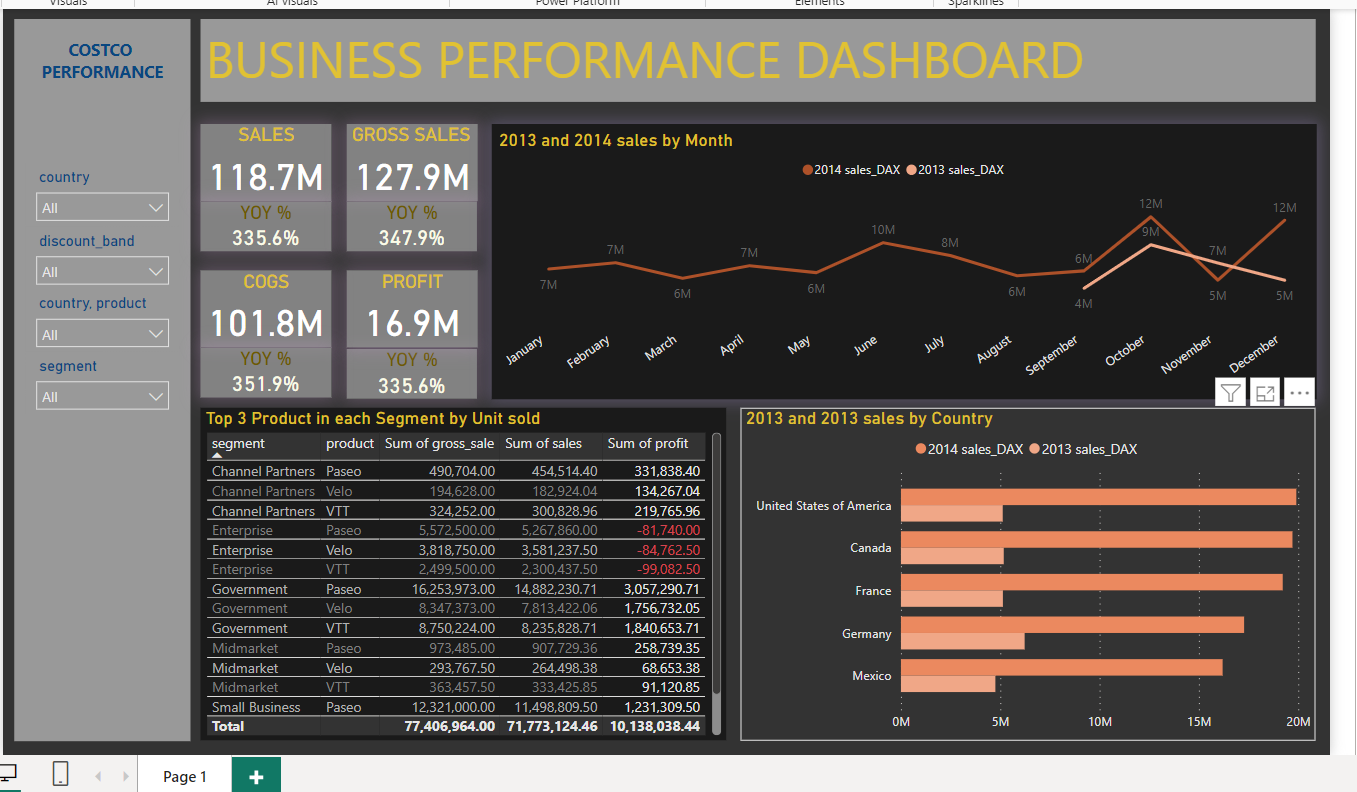

Layout of this report page (visuals, bound fields, positions):
{"tool":"powerbi","page":{"name":"Page 1","canvas":[1280,720],"ordinal":0},"visuals":[{"type":"shape","box":[10.9,9.6,170.1,697.1],"z":0},{"type":"card","title":"SALES","fields":{"Values":["Sum(testing financial_sample.sales)"]},"box":[190.6,111,126.6,74.8],"z":0,"group":"g1"},{"type":"card","title":"GROSS SALES","fields":{"Values":["Sum(testing financial_sample.gross_sale)"]},"box":[331.7,111,126.6,74.8],"z":0,"group":"g2"},{"type":"card","title":"COGS","fields":{"Values":["Sum(testing financial_sample.COGS)"]},"box":[190.6,252.1,126.6,74.8],"z":0,"group":"g4"},{"type":"card","title":"YOY %","fields":{"Values":["testing financial_sample.profit YoY%"]},"box":[331.6,328.2,125.8,47.6],"z":0,"group":"g3"},{"type":"textbox","box":[190.9,10.2,1075.8,80.1],"z":1000},{"type":"card","title":"YOY %","fields":{"Values":["testing financial_sample.gross_sale YoY%"]},"box":[331.6,185.4,125.8,47.6],"z":1000,"group":"g2"},{"type":"card","title":"YOY %","fields":{"Values":["testing financial_sample.profit YoY%"]},"box":[191,185.9,126.2,47.7],"z":1000,"group":"g1"},{"type":"card","title":"PROFIT","fields":{"Values":["Sum(testing financial_sample.profit)"]},"box":[331.7,252.1,126.6,74.8],"z":1000,"group":"g3"},{"type":"card","title":"YOY %","fields":{"Values":["testing financial_sample.COGS YoY%"]},"box":[191,327.4,126.2,47.7],"z":1000,"group":"g4"},{"type":"group","id":"g1","title":"sales","box":[190.6,111,126.6,122.6],"z":2000},{"type":"group","id":"g2","title":"gross sales","box":[331.6,111,126.7,122],"z":3000},{"type":"group","id":"g3","title":"profit","box":[331.6,252.1,126.7,123.7],"z":4000},{"type":"group","id":"g4","title":"cogs","box":[190.6,252.1,126.6,123],"z":5000},{"type":"lineChart","title":"2013 and 2014 sales by Month","fields":{"Y":["testing financial_sample.2014 sales_DAX","testing financial_sample.2013 sales_DAX"],"Category":["testing financial_sample.date.Variation.Date Hierarchy.Month"]},"box":[471,110.5,795.8,265.3],"z":6000},{"type":"tableEx","title":"Top 3 Product in each Segment by Unit sold","fields":{"Values":["testing financial_sample.segment","testing financial_sample.product","Sum(testing financial_sample.gross_sale)","Sum(testing financial_sample.sales)","Sum(testing financial_sample.profit)"]},"box":[190.6,385.3,507.3,320.8],"z":7000},{"type":"clusteredBarChart","title":"2013 and 2013 sales by Country","fields":{"Category":["testing financial_sample.country"],"Y":["testing financial_sample.2014 sales_DAX","testing financial_sample.2013 sales_DAX"]},"box":[711.6,385.3,555.3,320.8],"z":8000},{"type":"slicer","fields":{"Values":["testing financial_sample.country"]},"box":[21.7,148.3,148.3,60.3],"z":9000},{"type":"textbox","box":[21.7,22.9,148.3,76],"z":10000},{"type":"slicer","fields":{"Values":["testing financial_sample.discount_band"]},"box":[21.7,209.8,148.3,60.3],"z":11000},{"type":"slicer","fields":{"Values":["testing financial_sample.product"]},"box":[21.7,270.2,148.3,60.3],"z":12000},{"type":"slicer","fields":{"Values":["testing financial_sample.segment"]},"box":[21.7,330.5,148.3,60.3],"z":13000}]}

Visuals, with their boxes in screenshot pixels (x1, y1, x2, y2):
shape: <bbox>4, 10, 182, 739</bbox>
"SALES" card: <bbox>192, 116, 325, 194</bbox>
"GROSS SALES" card: <bbox>340, 116, 472, 194</bbox>
"COGS" card: <bbox>192, 264, 325, 342</bbox>
"YOY %" card: <bbox>340, 343, 471, 393</bbox>
textbox: <bbox>193, 11, 1317, 94</bbox>
"YOY %" card: <bbox>340, 194, 471, 244</bbox>
"YOY %" card: <bbox>193, 194, 325, 244</bbox>
"PROFIT" card: <bbox>340, 264, 472, 342</bbox>
"YOY %" card: <bbox>193, 342, 325, 392</bbox>
"sales" group: <bbox>192, 116, 325, 244</bbox>
"gross sales" group: <bbox>340, 116, 472, 244</bbox>
"profit" group: <bbox>340, 264, 472, 393</bbox>
"cogs" group: <bbox>192, 264, 325, 392</bbox>
"2013 and 2014 sales by Month" lineChart: <bbox>485, 116, 1317, 393</bbox>
"Top 3 Product in each Segment by Unit sold" tableEx: <bbox>192, 403, 723, 738</bbox>
"2013 and 2013 sales by Country" clusteredBarChart: <bbox>737, 403, 1317, 738</bbox>
slicer - testing financial_sample.country: <bbox>16, 155, 171, 218</bbox>
textbox: <bbox>16, 24, 171, 103</bbox>
slicer - testing financial_sample.discount_band: <bbox>16, 219, 171, 282</bbox>
slicer - testing financial_sample.product: <bbox>16, 282, 171, 346</bbox>
slicer - testing financial_sample.segment: <bbox>16, 346, 171, 409</bbox>
